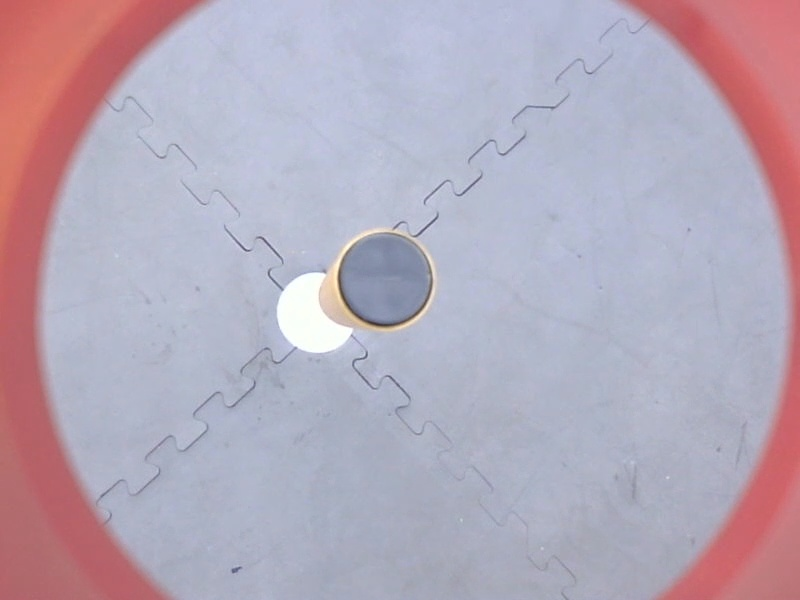tip: (331, 222, 444, 338)
